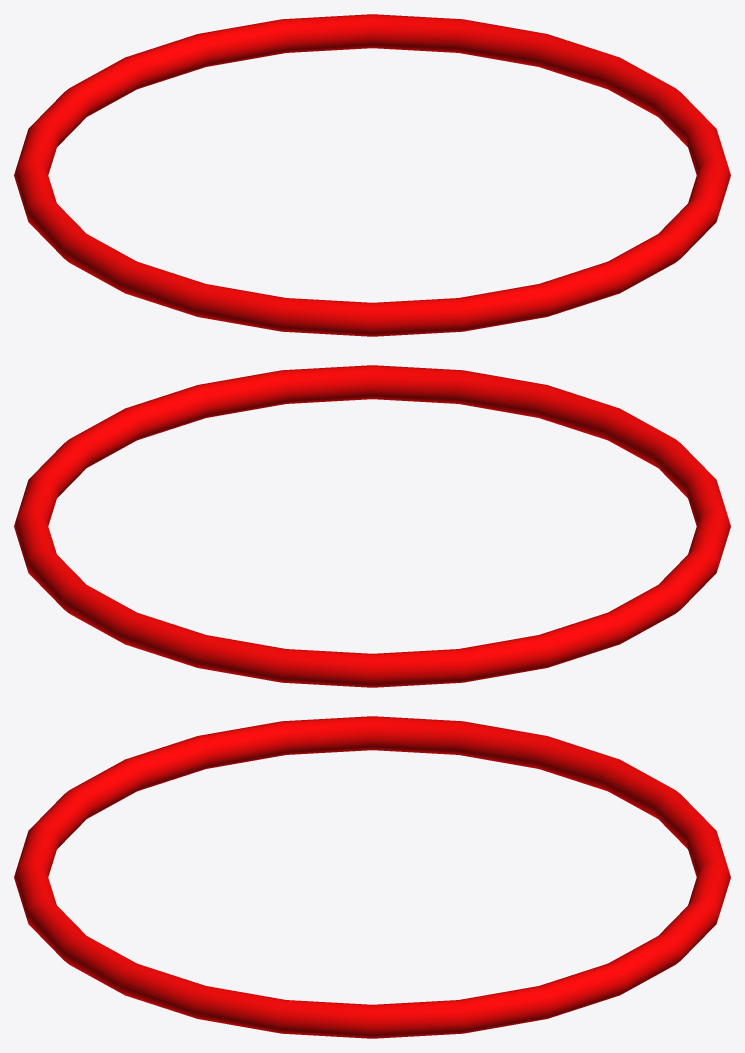
The model's file is TorusSelection.FBX.
3 views of the same model, one above another, from view 1: azimuth 30°, elevation 25°; view 2: azimuth 150°, elevation 25°; view 3: azimuth 270°, elevation 25° (orthographic).
Parts seen in each view (by area): view 1: Torus001; view 2: Torus001; view 3: Torus001.
Part boxes in pixels (left/top/right/bottom): Torus001: left=14, top=14, right=730, bottom=336; Torus001: left=14, top=365, right=730, bottom=687; Torus001: left=14, top=716, right=730, bottom=1038.
Size of the model in its own units: 42 by 2 by 42.
